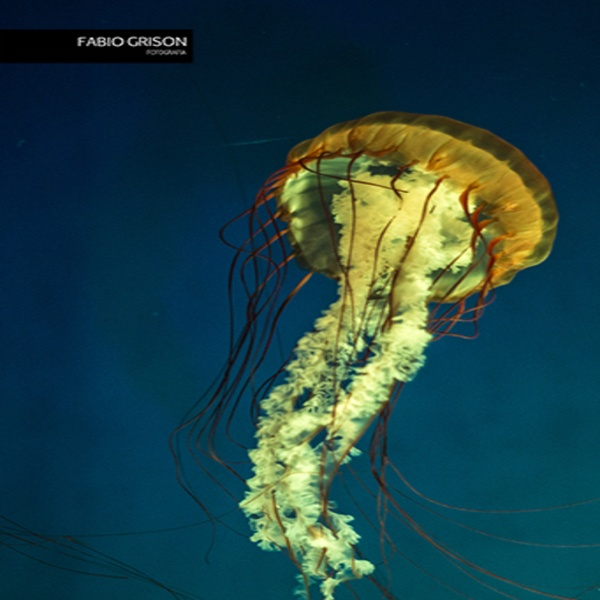Jellyfish: (172, 60, 573, 595)
